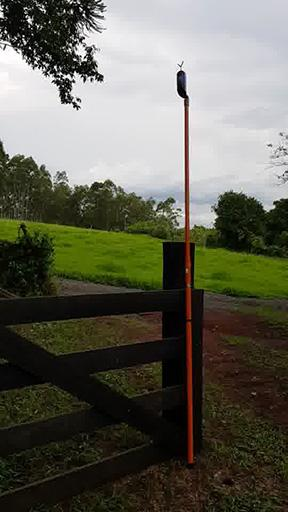Detector_Tensao_Contato: (176, 59, 187, 99)
Vara_Manobra: (183, 97, 195, 465)
